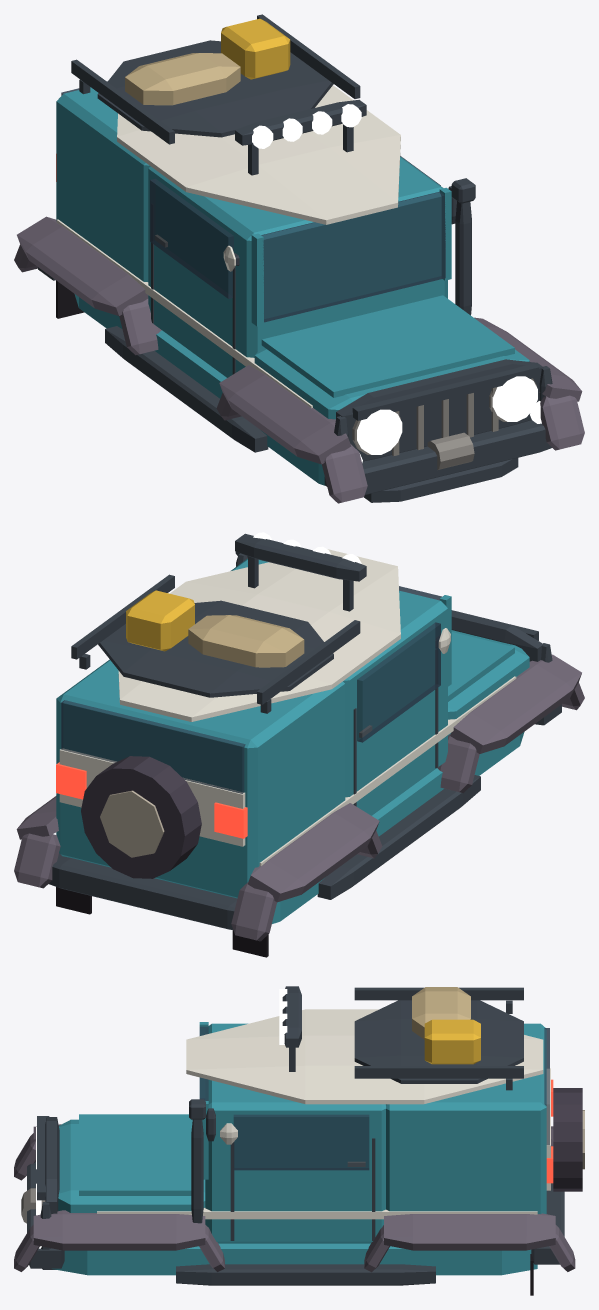
File: bracken_body.glb
The picture shows the model from 3 angles, top to bottom: view 1: azimuth 30°, elevation 25°; view 2: azimuth 150°, elevation 25°; view 3: azimuth 270°, elevation 25°; orthographic projection. The views are drawn at different scales.
Parts seen in each view (by area): view 1: bracken_body; view 2: bracken_body; view 3: bracken_body.
Part boxes in pixels (x1,y1,x2,y2): bracken_body: (14, 14, 584, 503); bracken_body: (14, 532, 584, 957); bracken_body: (14, 986, 584, 1295).
Size of the model in its own units: 2.46 by 2.39 by 5.05.
